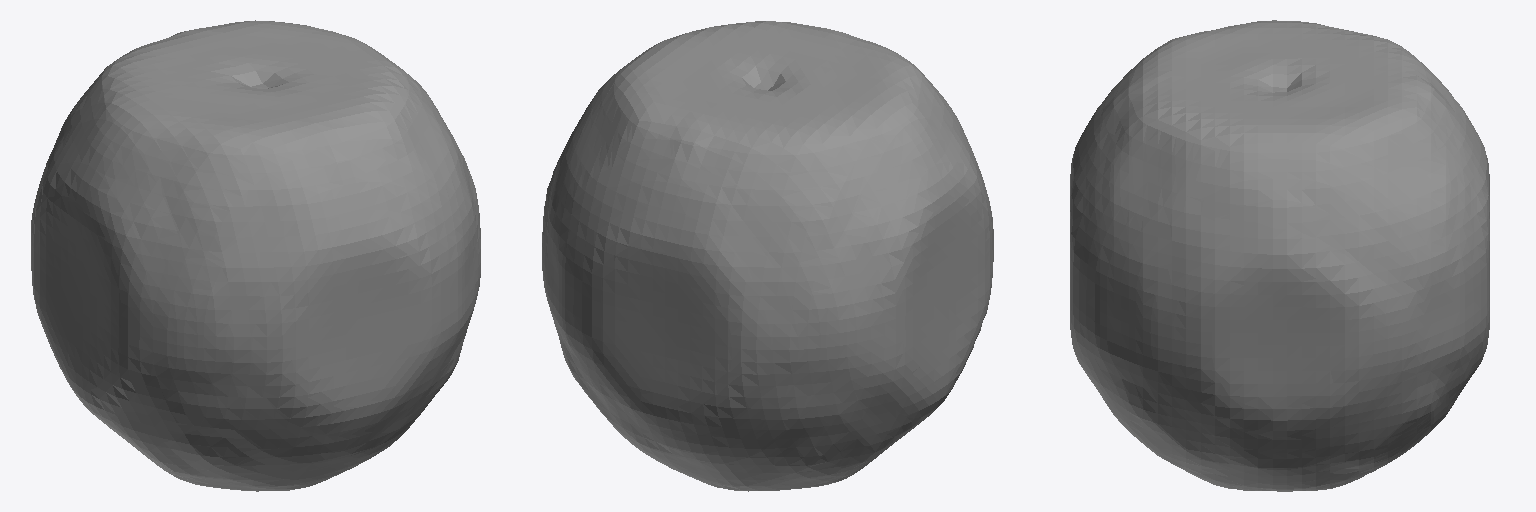
URDF robot description (cube.urdf):
<?xml version="0.0" ?> 
<robot name="cube.urdf"> 
<link name="legobrick"> 
<contact> 
<lateral_friction value="5.0"/> 
<rolling_friction value="0.0"/> 
<contact_cfm value="0.0"/> 
<contact_erp value="1.0"/> 
</contact> 
<inertial> 
<origin rpy="0 0 0" xyz="0.0 0.0 0.0"/> 
<mass value=".01"/> 
<inertia ixx="1" ixy="0" ixz="0" iyy="1" iyz="0" izz="1"/> 
</inertial> 
<visual> 
<origin rpy="1.570796 0 0" xyz="-0.025419231519524764 0.025868587156031925 -0.027029846214013074"/> 
<geometry> 
<mesh filename="C02_0.obj" scale="0.0006999165934767532 0.0006999165934767532 0.0006999165934767532"/> 
</geometry> 
<material name="yellow"> 
<color rgba="0.6 0.6 0.6 1"/> 
</material> 
</visual> 
<collision> 
<origin rpy="1.570796 0 0" xyz="-0.025419231519524764 0.025868587156031925 -0.027029846214013074"/> 
<geometry> 
<mesh filename="C02_0.obj" scale="0.0006999165934767532 0.0006999165934767532 0.0006999165934767532"/> 
</geometry> 
</collision> 
</link> 
</robot>

--- Facts derived from the render (not from the file) ---
The picture shows the robot from 3 angles, left to right: view 1: azimuth 30°, elevation 25°; view 2: azimuth 150°, elevation 25°; view 3: azimuth 270°, elevation 25°; orthographic projection.
Robot: cube.urdf — 1 links, 0 joints (none); root link legobrick; default pose: every joint at zero.
Links seen in each view (by area): view 1: legobrick; view 2: legobrick; view 3: legobrick.
Link boxes in pixels (box(x1,y1,x2,y2)): legobrick: box(31, 20, 480, 491); legobrick: box(542, 21, 993, 491); legobrick: box(1070, 20, 1489, 491).
Size in the robot's own frame: 0.056 by 0.056 by 0.056 metres.
1 mesh visuals loaded from 1 distinct referenced files (1 OBJ).
